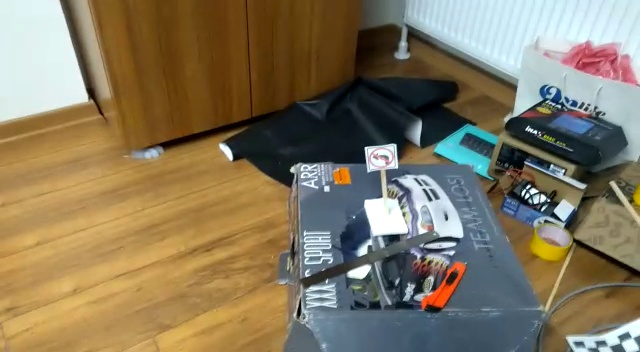sola_donulmez: (366, 144, 396, 171)
